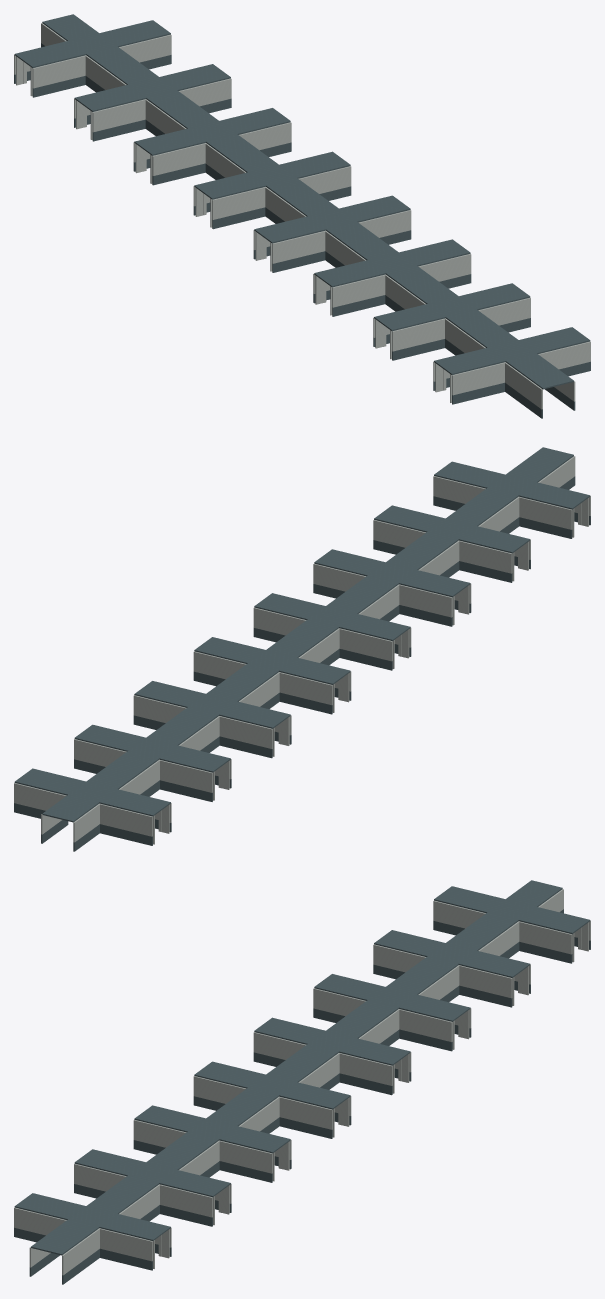
Rendered from AST-STF-G3-028.glb.
3 views of the same model, one above another, from view 1: azimuth 30°, elevation 25°; view 2: azimuth 150°, elevation 25°; view 3: azimuth 330°, elevation 25° (orthographic).
Parts seen in each view (by area): view 1: overhead_staff_bluegrey_paint_10_-13, overhead_staff_bluegrey_paint_10_-7, overhead_staff_bluegrey_paint_10_-10, overhead_staff_bluegrey_paint_10_-16, overhead_staff_bluegrey_paint_10_-14, overhead_staff_bluegrey_paint_10_-17, overhead_staff_bluegrey_paint_10_-11, overhead_staff_bluegrey_paint_10_-8, overhead_staff_bluegrey_paint_10_-12, overhead_staff_bluegrey_paint_10_-15, overhead_staff_bluegrey_paint_10_-9, overhead_staff_bluegrey_paint_10_-18 (+26 smaller); view 2: overhead_staff_bluegrey_paint_10_-16, overhead_staff_bluegrey_paint_10_-7, overhead_staff_bluegrey_paint_10_-13, overhead_staff_bluegrey_paint_10_-10, overhead_staff_bluegrey_paint_10_-12, overhead_staff_bluegrey_paint_10_-15, overhead_staff_bluegrey_paint_10_-9, overhead_staff_bluegrey_paint_10_-11, overhead_staff_bluegrey_paint_10_-14, overhead_staff_bluegrey_paint_10_-8, overhead_staff_bluegrey_paint_10_-17, overhead_staff_bluegrey_paint_10_-18 (+26 smaller); view 3: overhead_staff_bluegrey_paint_10_-7, overhead_staff_bluegrey_paint_10_-16, overhead_staff_bluegrey_paint_10_-13, overhead_staff_bluegrey_paint_10_-10, overhead_staff_bluegrey_paint_10_-14, overhead_staff_bluegrey_paint_10_-17, overhead_staff_bluegrey_paint_10_-11, overhead_staff_bluegrey_paint_10_-8, overhead_staff_bluegrey_paint_10_-12, overhead_staff_bluegrey_paint_10_-15, overhead_staff_bluegrey_paint_10_-9, overhead_staff_bluegrey_paint_10_-18 (+34 smaller).
Part boxes in pixels (box(x1,y1,x2,y2)): overhead_staff_bluegrey_paint_10_-13: box(212, 157, 307, 195); overhead_staff_bluegrey_paint_10_-7: box(451, 332, 546, 370); overhead_staff_bluegrey_paint_10_-10: box(332, 244, 427, 283); overhead_staff_bluegrey_paint_10_-16: box(92, 69, 187, 107); overhead_staff_bluegrey_paint_10_-14: box(161, 127, 267, 165); overhead_staff_bluegrey_paint_10_-17: box(41, 39, 147, 77); overhead_staff_bluegrey_paint_10_-11: box(281, 214, 387, 252); overhead_staff_bluegrey_paint_10_-8: box(401, 302, 506, 340); overhead_staff_bluegrey_paint_10_-12: box(272, 186, 349, 231); overhead_staff_bluegrey_paint_10_-15: box(152, 98, 229, 143); overhead_staff_bluegrey_paint_10_-9: box(392, 273, 469, 319); overhead_staff_bluegrey_paint_10_-18: box(32, 14, 109, 55); overhead_staff_bluegrey_paint_10_-16: box(117, 729, 213, 768); overhead_staff_bluegrey_paint_10_-7: box(477, 466, 572, 505); overhead_staff_bluegrey_paint_10_-13: box(237, 642, 332, 680); overhead_staff_bluegrey_paint_10_-10: box(357, 554, 452, 592); overhead_staff_bluegrey_paint_10_-12: box(277, 612, 383, 650); overhead_staff_bluegrey_paint_10_-15: box(157, 700, 263, 737); overhead_staff_bluegrey_paint_10_-9: box(397, 524, 503, 562); overhead_staff_bluegrey_paint_10_-11: box(315, 583, 392, 628); overhead_staff_bluegrey_paint_10_-14: box(196, 671, 272, 716); overhead_staff_bluegrey_paint_10_-8: box(435, 496, 512, 541); overhead_staff_bluegrey_paint_10_-17: box(76, 759, 152, 804); overhead_staff_bluegrey_paint_10_-18: box(42, 787, 144, 822); overhead_staff_bluegrey_paint_10_-7: box(32, 1197, 128, 1235); overhead_staff_bluegrey_paint_10_-16: box(391, 934, 487, 972); overhead_staff_bluegrey_paint_10_-13: box(271, 1022, 367, 1060); overhead_staff_bluegrey_paint_10_-10: box(151, 1109, 248, 1147); overhead_staff_bluegrey_paint_10_-14: box(331, 984, 409, 1031); overhead_staff_bluegrey_paint_10_-17: box(451, 897, 528, 943); overhead_staff_bluegrey_paint_10_-11: box(211, 1072, 289, 1118); overhead_staff_bluegrey_paint_10_-8: box(92, 1160, 169, 1206); overhead_staff_bluegrey_paint_10_-12: box(221, 1052, 327, 1088); overhead_staff_bluegrey_paint_10_-15: box(341, 964, 447, 1001); overhead_staff_bluegrey_paint_10_-9: box(101, 1139, 208, 1176); overhead_staff_bluegrey_paint_10_-18: box(460, 880, 562, 913).
Bounding box in the file's own units: 16 × 3.34 × 100.
Materials: 2 (2 with a texture image).
